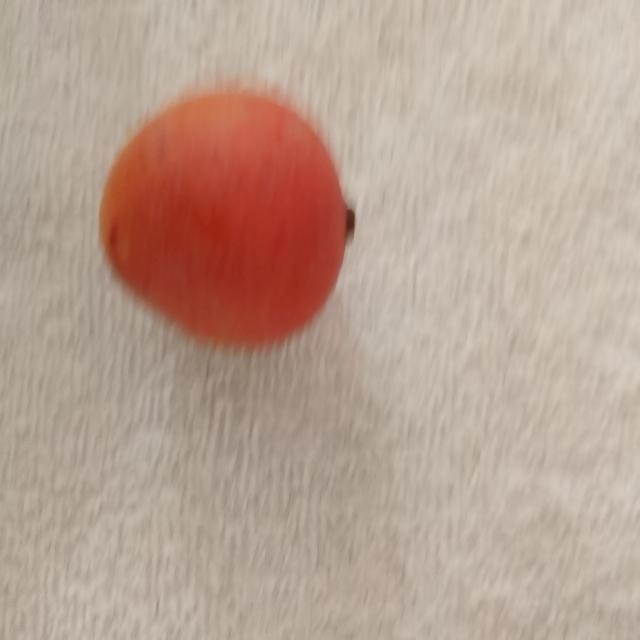mango: (95, 77, 359, 353)
